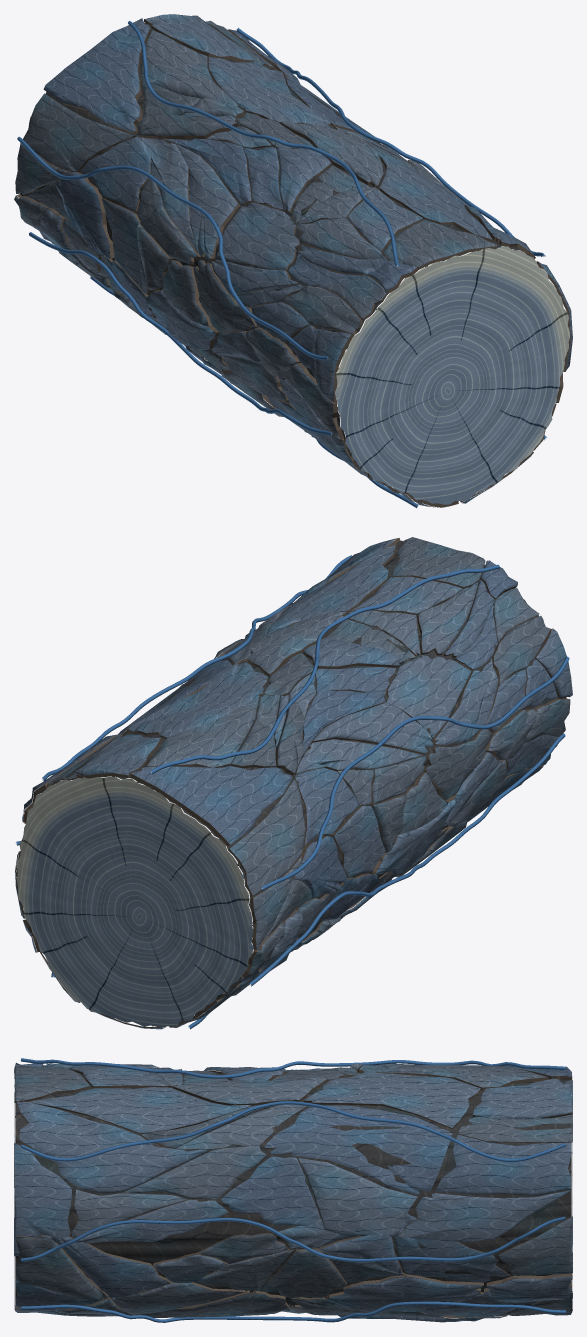
File: magic_log.glb
3 views of the same model, one above another, from view 1: azimuth 30°, elevation 25°; view 2: azimuth 150°, elevation 25°; view 3: azimuth 270°, elevation 25° (orthographic). The views are drawn at different scales.
Parts seen in each view (by area): view 1: magic_log irregular weathered bark, magic_log species growth rings, magic_log broken cambium and bark edges, Magic blue vein borders, magic_log continuous fibrous fissure bed; view 2: magic_log irregular weathered bark, magic_log species growth rings, magic_log broken cambium and bark edges, Magic blue vein borders, magic_log continuous fibrous fissure bed; view 3: magic_log irregular weathered bark, magic_log continuous fibrous fissure bed, Magic blue vein borders, magic_log broken cambium and bark edges, magic_log species growth rings.
Boxes of the visible parts, <box> form: magic_log irregular weathered bark: <box>14,14,572,507</box>; magic_log species growth rings: <box>335,246,570,504</box>; magic_log broken cambium and bark edges: <box>16,19,570,507</box>; Magic blue vein borders: <box>17,21,569,508</box>; magic_log continuous fibrous fissure bed: <box>20,23,531,497</box>; magic_log irregular weathered bark: <box>15,537,572,1029</box>; magic_log species growth rings: <box>16,776,253,1027</box>; magic_log broken cambium and bark edges: <box>16,538,569,1028</box>; Magic blue vein borders: <box>16,555,569,1029</box>; magic_log continuous fibrous fissure bed: <box>37,540,566,1023</box>; magic_log irregular weathered bark: <box>14,1063,572,1322</box>; magic_log continuous fibrous fissure bed: <box>15,1070,571,1311</box>; Magic blue vein borders: <box>20,1058,566,1322</box>; magic_log broken cambium and bark edges: <box>14,1065,572,1318</box>; magic_log species growth rings: <box>14,1069,572,1310</box>.
Bounding box in the file's own units: 0.2539 × 0.2523 × 0.5404.
6 materials, 3 textured.
